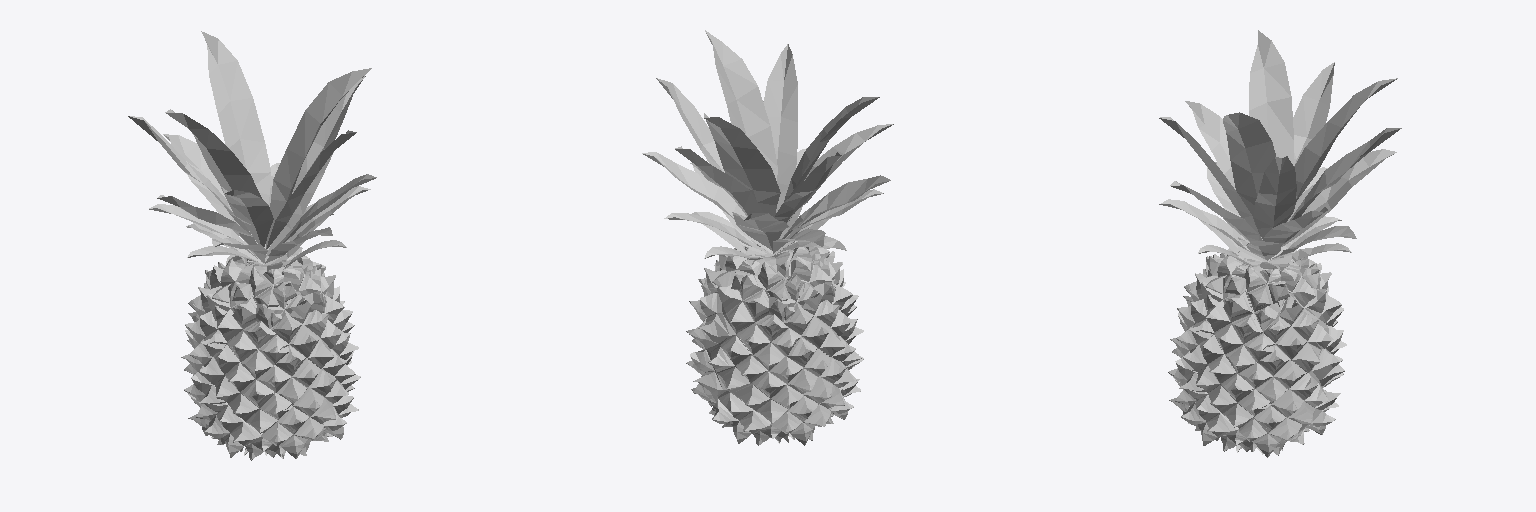
File: pineapple.obj
3 renders of one model, left to right at view 1: azimuth 30°, elevation 25°; view 2: azimuth 150°, elevation 25°; view 3: azimuth 270°, elevation 25°, orthographic.
Parts seen in each view (by area): view 1: pineapple.001; view 2: pineapple.001; view 3: pineapple.001.
Part boxes in pixels (bbox=[...]): pineapple.001: bbox=[128, 31, 376, 460]; pineapple.001: bbox=[642, 30, 893, 445]; pineapple.001: bbox=[1159, 30, 1401, 457].
Size of the model in its own units: 3.6 by 5.73 by 3.41.